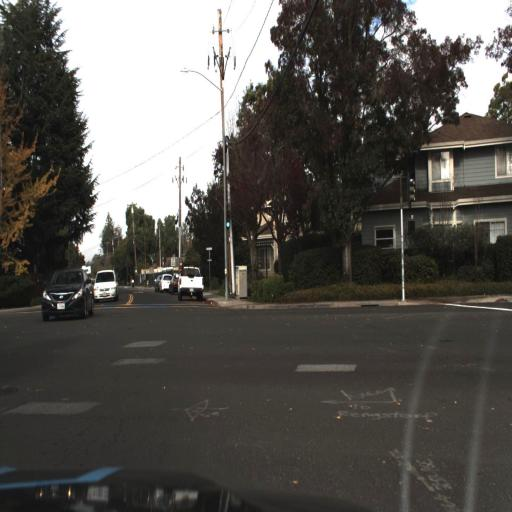car: (36, 262, 98, 329), (91, 264, 121, 310), (176, 262, 208, 305)
trafficLight-Green: (218, 202, 233, 241)
truck: (68, 262, 86, 296)
